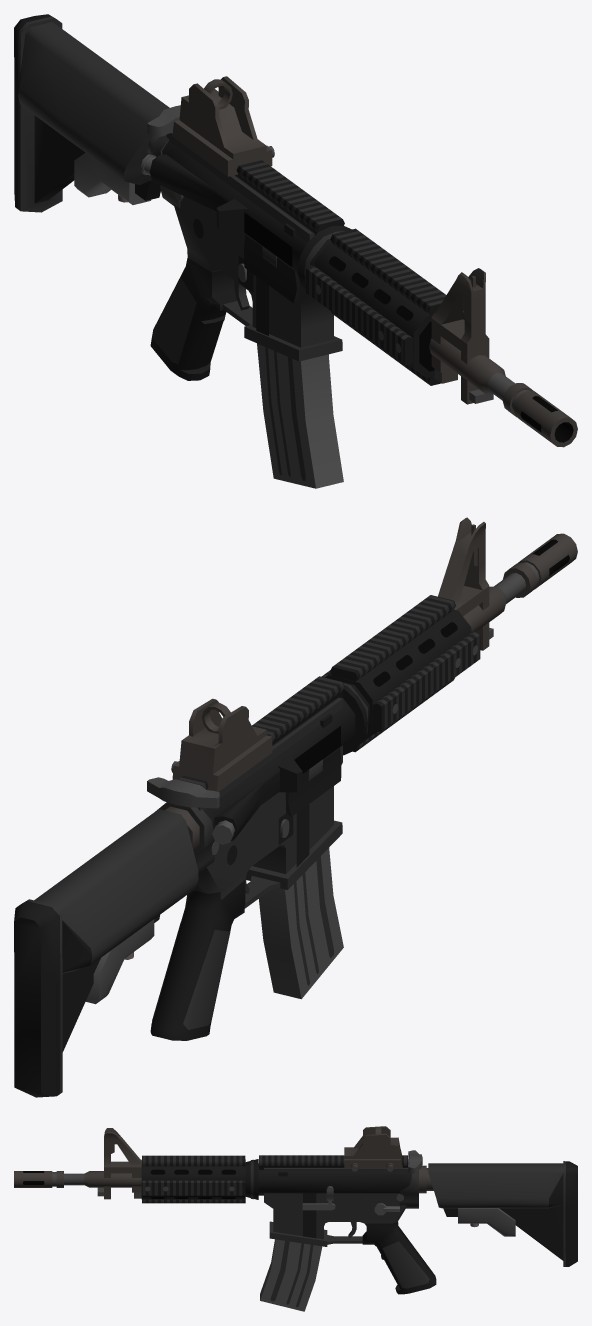
The picture shows the model from 3 angles, top to bottom: view 1: azimuth 30°, elevation 25°; view 2: azimuth 150°, elevation 25°; view 3: azimuth 270°, elevation 25°; orthographic projection. The views are drawn at different scales.
Parts seen in each view (by area): view 1: trigger; view 2: trigger; view 3: trigger.
Part boxes in pixels (x1,y1,x2,y2): trigger: [14, 14, 577, 488]; trigger: [14, 517, 577, 1097]; trigger: [14, 1126, 577, 1311].
Bounding box in the file's own units: 8.65 × 33.43 × 94.91.
